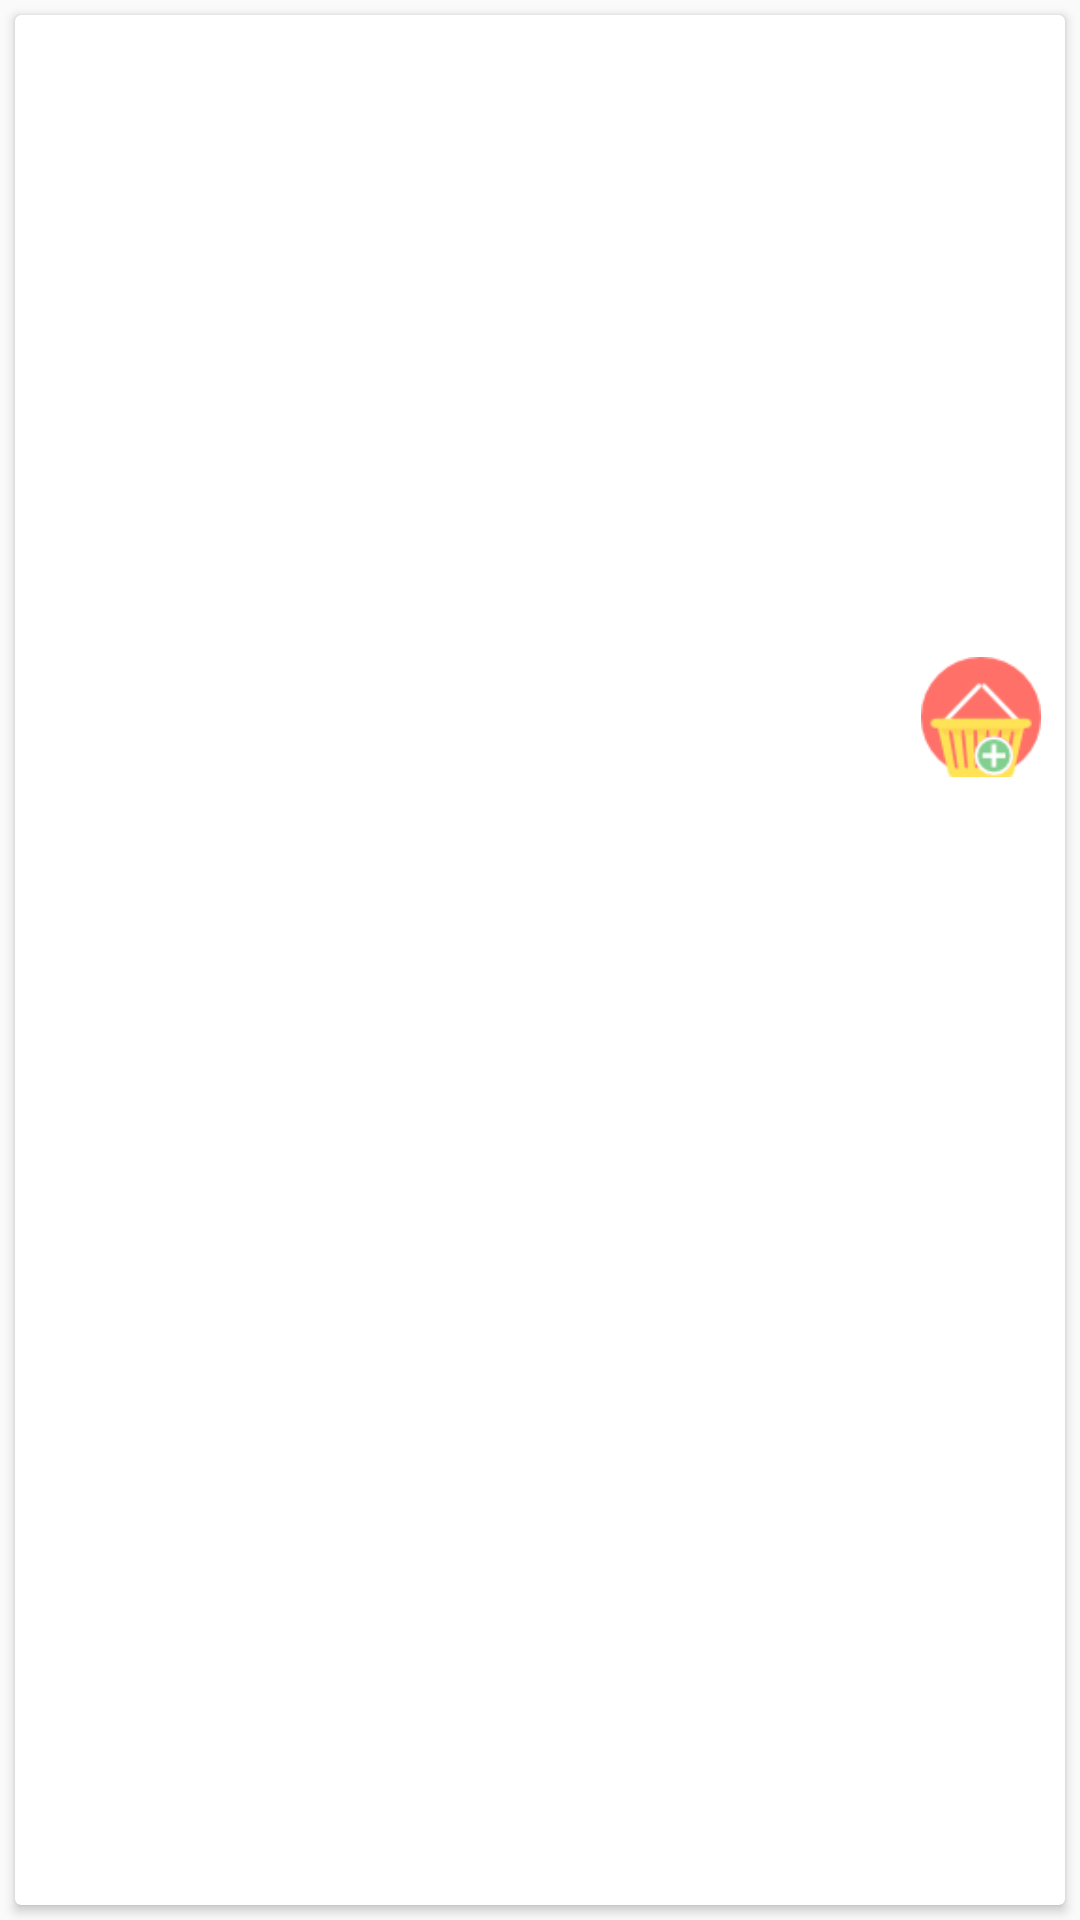

Locate icon controls on the screen. Image size 1080x1920, boxes as BBox(x1, y1, x2, y2).
shopping basket: BBox(921, 657, 1041, 777)
